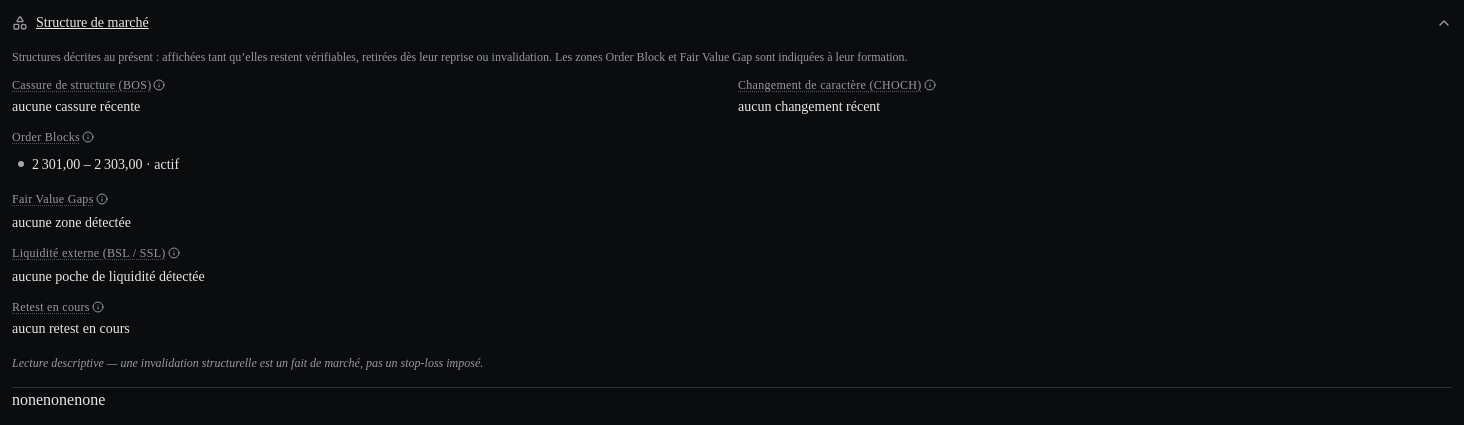
it: zone list → click to chart › clicking an OB entry centres + highlights THAT zone by its real engine id
Step 1. Click the button "2 301,00 – 2 303,00 · actif" → click(106, 164), box 12,151 -> 1452,179
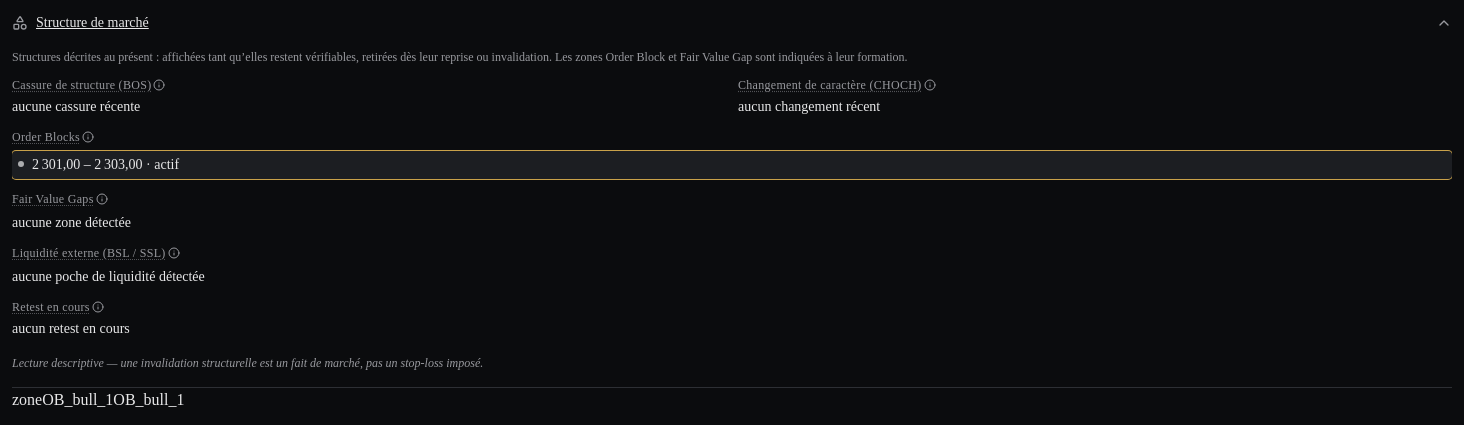
Check: the text with test id "sel-family" reads "zone", box 12,391 -> 42,408
Check: the text with test id "sel-id" reads "OB_bull_1", box 42,391 -> 113,408
Check: the text with test id "highlight" reads "OB_bull_1", box 113,391 -> 184,408
